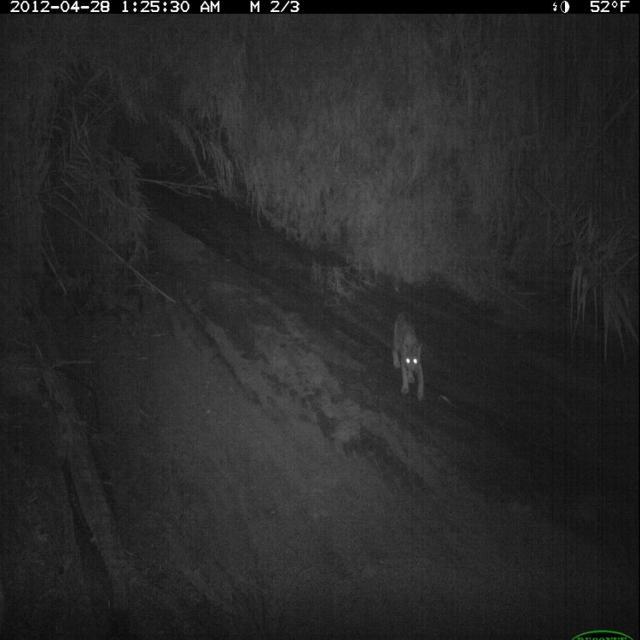bobcat: (391, 307, 428, 408)
